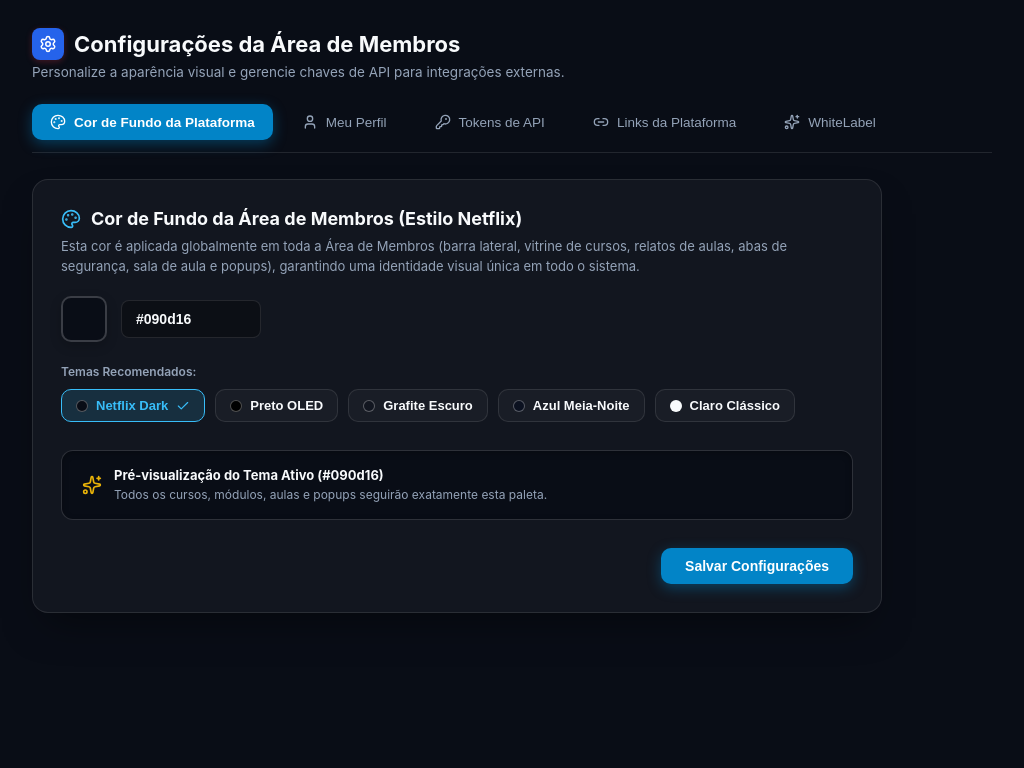
Test case: PlatformApiTokensTab and PlatformSettings Tabs Integration › allows revoking and deleting an API token with confirmation modal
Note: Navega para aba de Tokens
Click the button with test id "tab-api-tokens-btn" at [490, 122], box [416, 104, 564, 140]
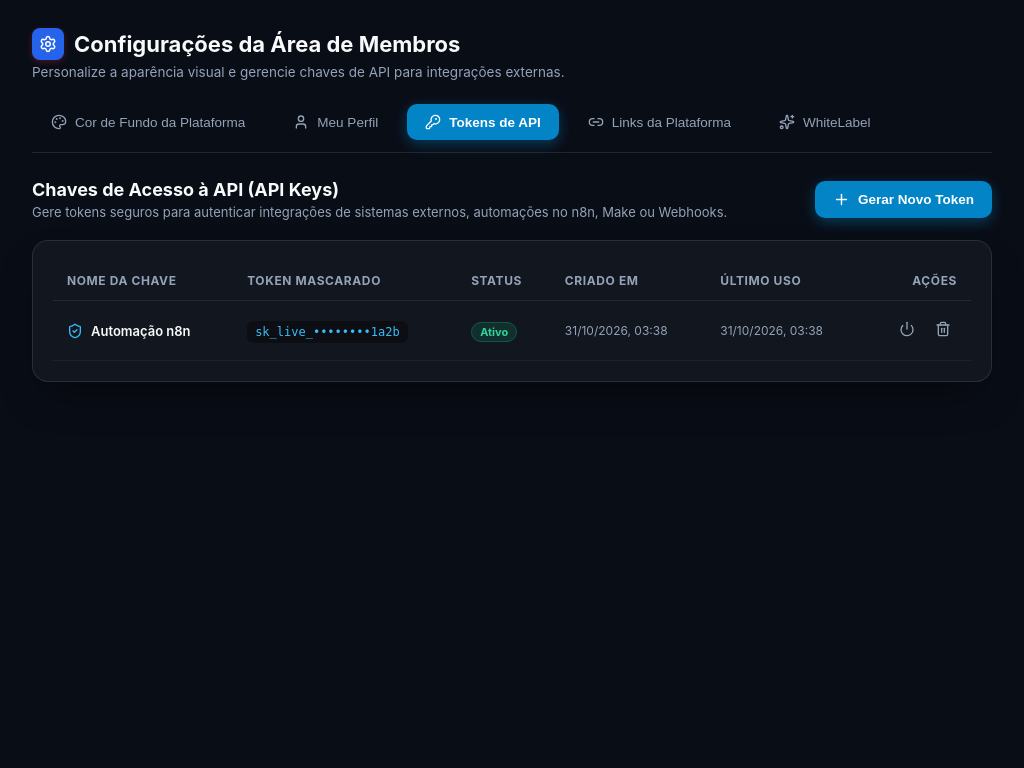
Now the text "Automação n8n" is shown, box [91, 322, 191, 338]
Note: Clica no botão de excluir chave
Click the button with test id "delete-token-btn-1" at [943, 330], box [929, 315, 957, 346]
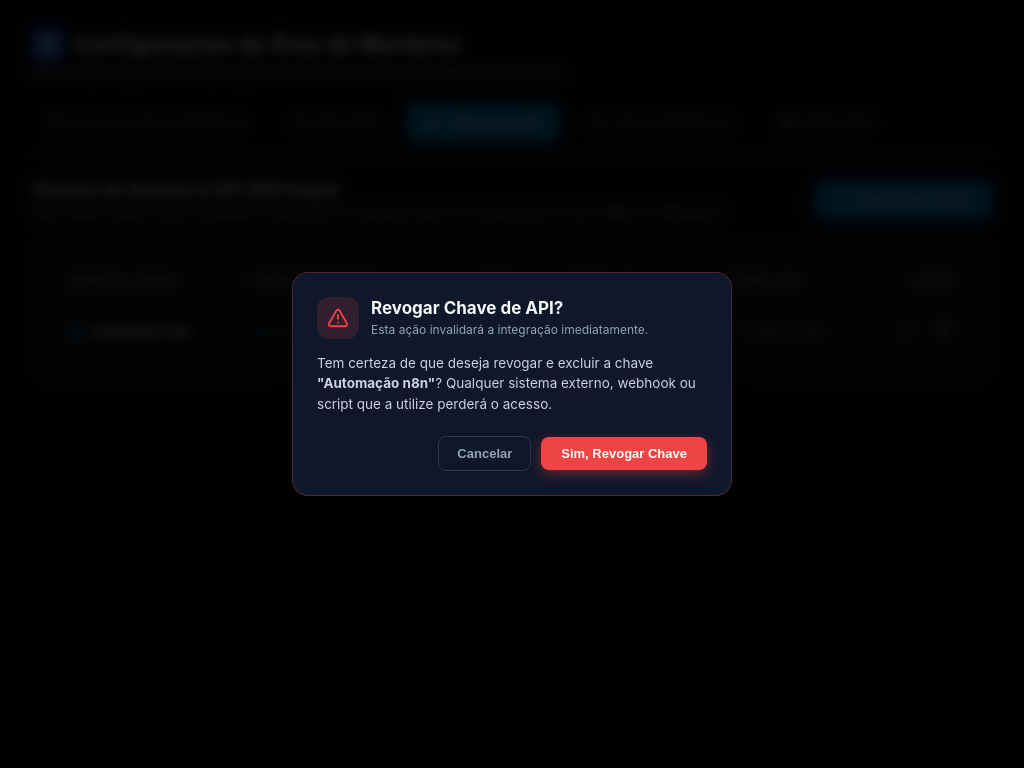
Now the element with test id "delete-token-confirm-modal" is shown
Now the text "Tem certeza de que deseja revogar e excluir a chave" is shown, box [317, 355, 653, 371]
Note: Confirma exclusão
Click the button with test id "confirm-delete-token-btn" at [624, 453], box [541, 437, 707, 470]
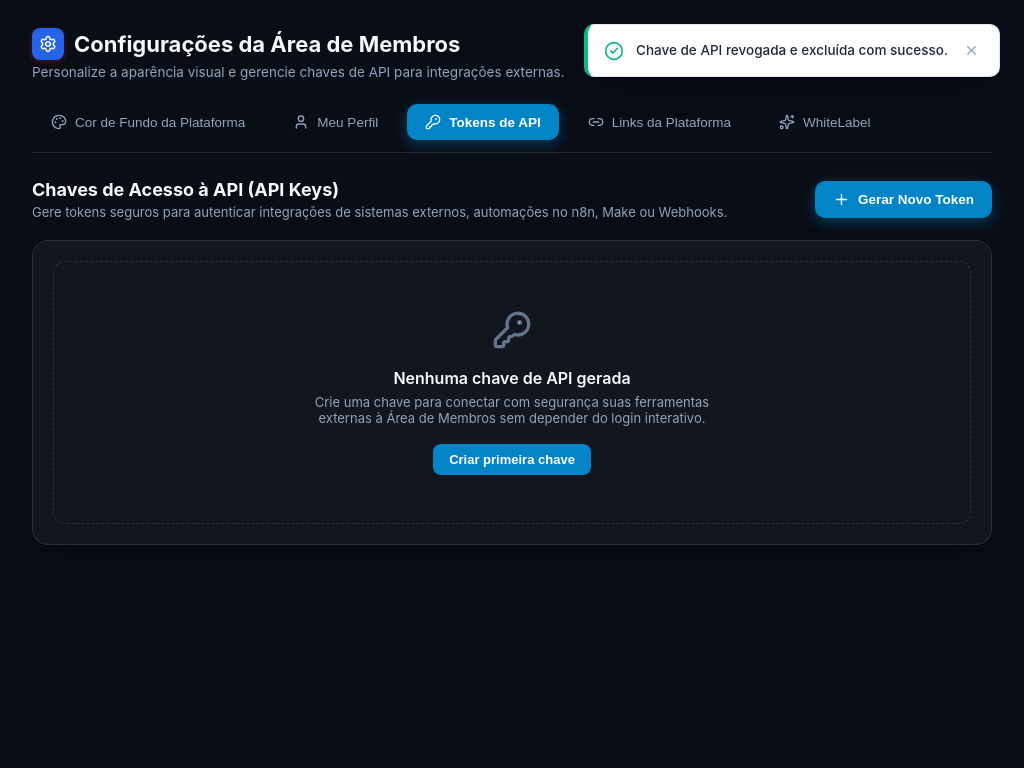
Now the text "Automação n8n" is gone
